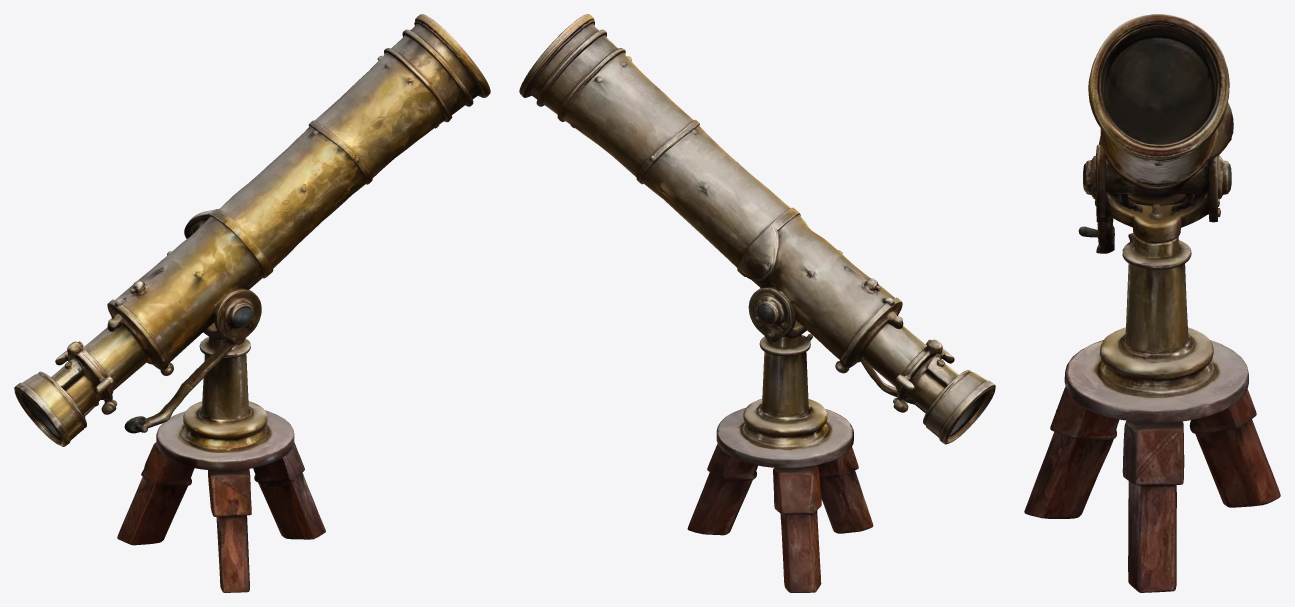
File: telescope.glb
3 renders of one model, left to right at view 1: azimuth 30°, elevation 25°; view 2: azimuth 150°, elevation 25°; view 3: azimuth 270°, elevation 25°, orthographic. The views are drawn at different scales.
Parts seen in each view (by area): view 1: node_e32fe689-28c0-4d8b-9946-ed883383c733; view 2: node_e32fe689-28c0-4d8b-9946-ed883383c733; view 3: node_e32fe689-28c0-4d8b-9946-ed883383c733.
Boxes of the visible parts, x1=… form: node_e32fe689-28c0-4d8b-9946-ed883383c733: x1=14, y1=14, x2=490, y2=592; node_e32fe689-28c0-4d8b-9946-ed883383c733: x1=519, y1=14, x2=995, y2=592; node_e32fe689-28c0-4d8b-9946-ed883383c733: x1=1024, y1=14, x2=1280, y2=592.
Size of the model in its own units: 0.9758 by 0.9801 by 0.3478.
Materials: 1 (1 with a texture image).
